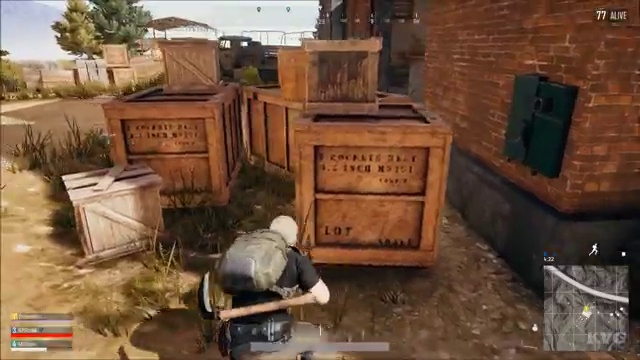Player: (173, 200, 345, 314)
